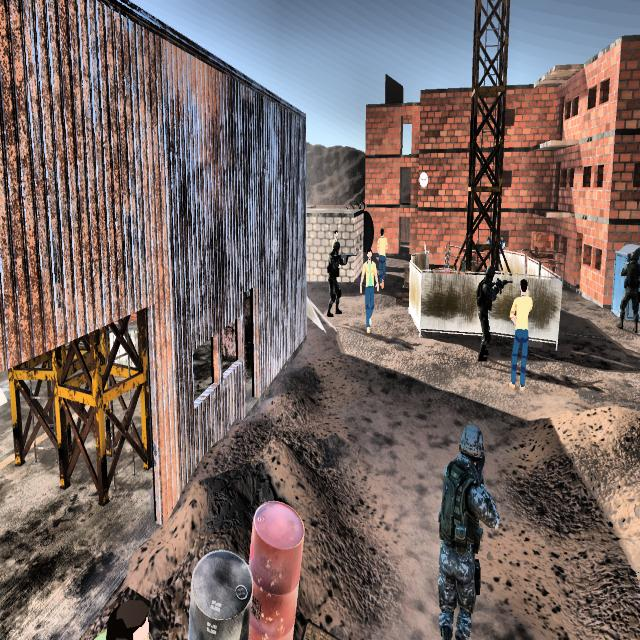bad: (425, 406, 504, 640), (471, 252, 507, 362), (616, 239, 640, 338), (325, 233, 347, 317)
good: (508, 275, 533, 397), (360, 244, 381, 333), (374, 222, 392, 294)
